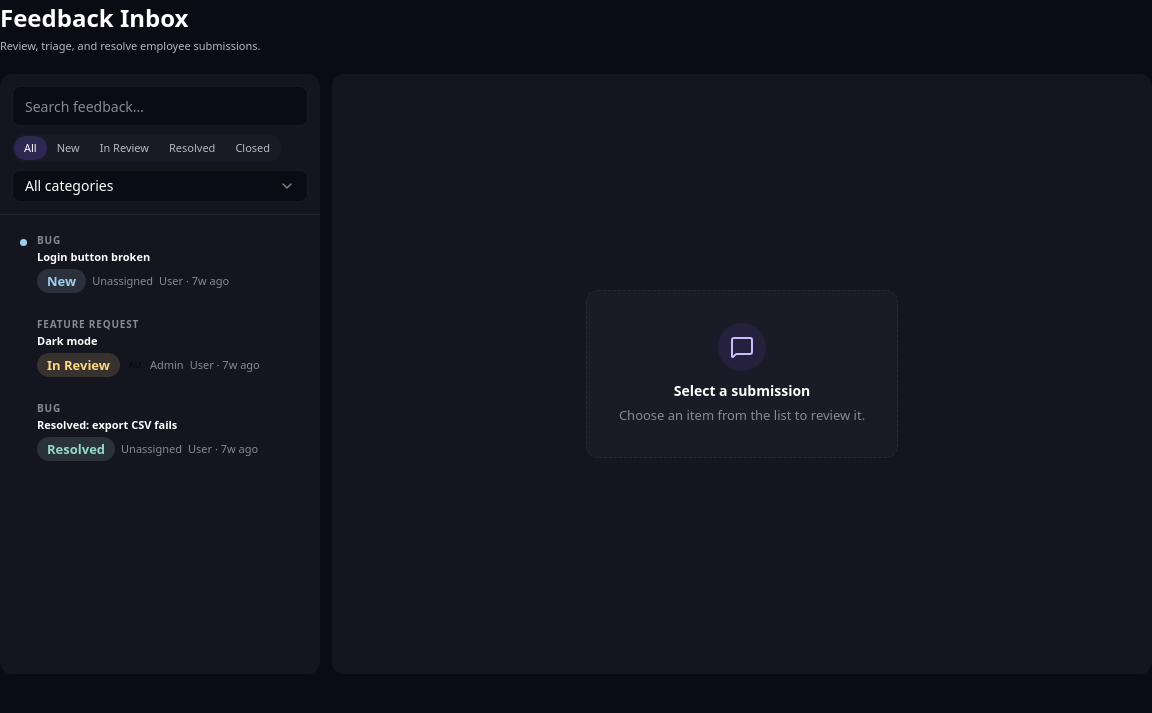
Test: FeedbackAdminPage › Activity section shows synthesized 'submitted' entry + mocked audit row
Click the text "Login button broken" at [94, 256], box [37,249,150,264]
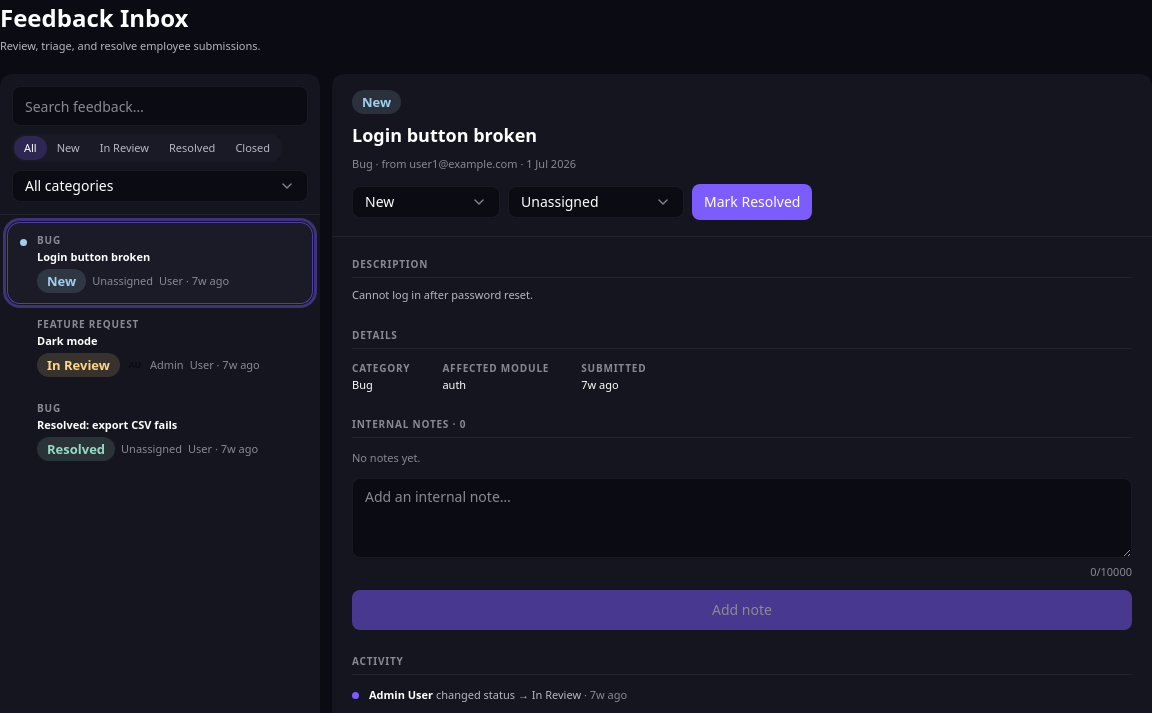
Check: the text "Admin User changed status → In Review · 7w ago" is shown, box [369,687,627,703]
